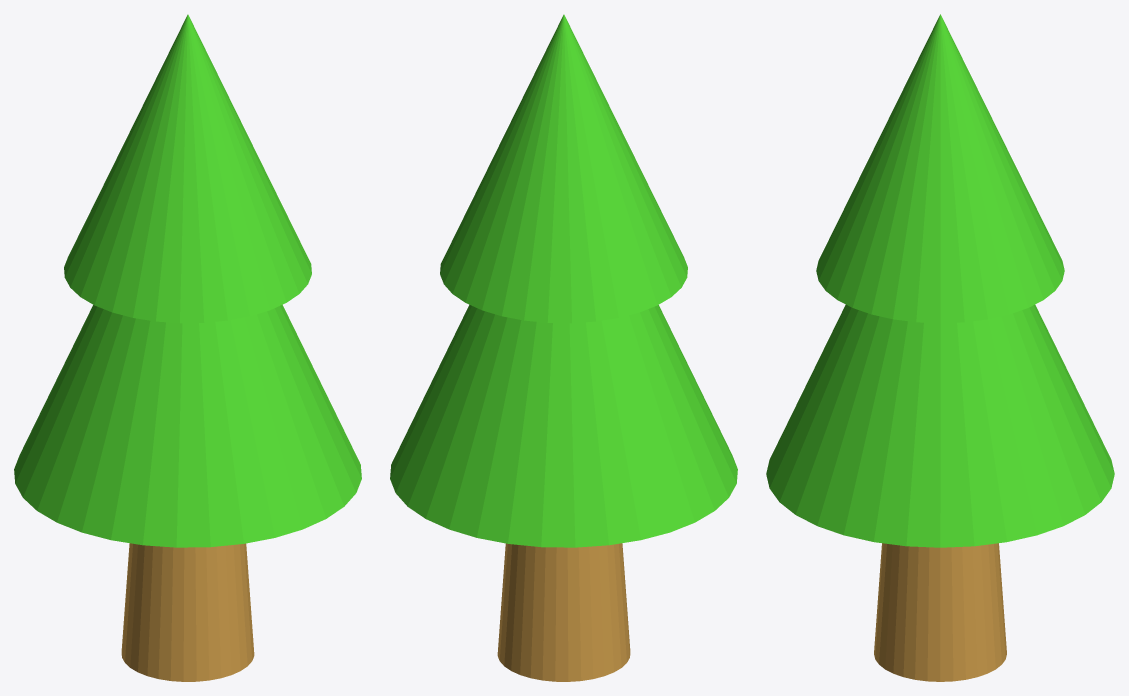
Rendered from tree.fbx.
3 views of the same model, side by side, from view 1: azimuth 30°, elevation 25°; view 2: azimuth 150°, elevation 25°; view 3: azimuth 270°, elevation 25° (orthographic).
Parts seen in each view (by area): view 1: tree; view 2: tree; view 3: tree.
Part boxes in pixels (x1=…): tree: x1=14, y1=14, x2=361, y2=681; tree: x1=390, y1=14, x2=737, y2=681; tree: x1=766, y1=14, x2=1114, y2=681.
Size of the model in its own units: 47.25 by 95.7 by 47.25.
